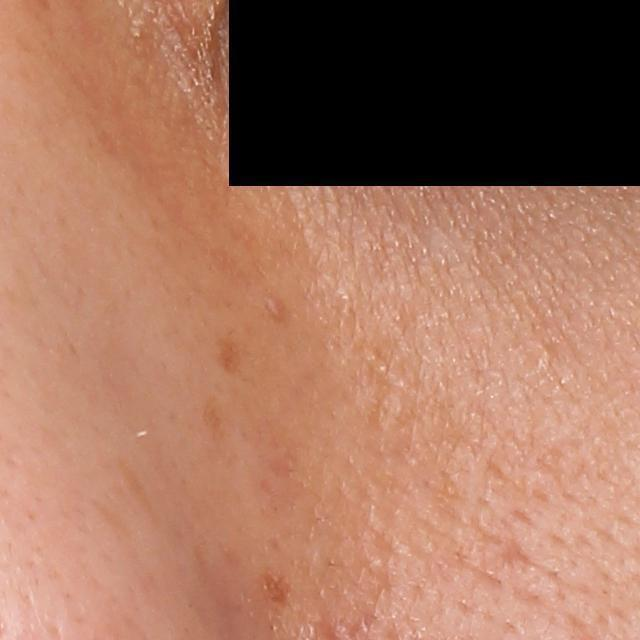melasma: (211, 337, 243, 376), (266, 569, 293, 604)
